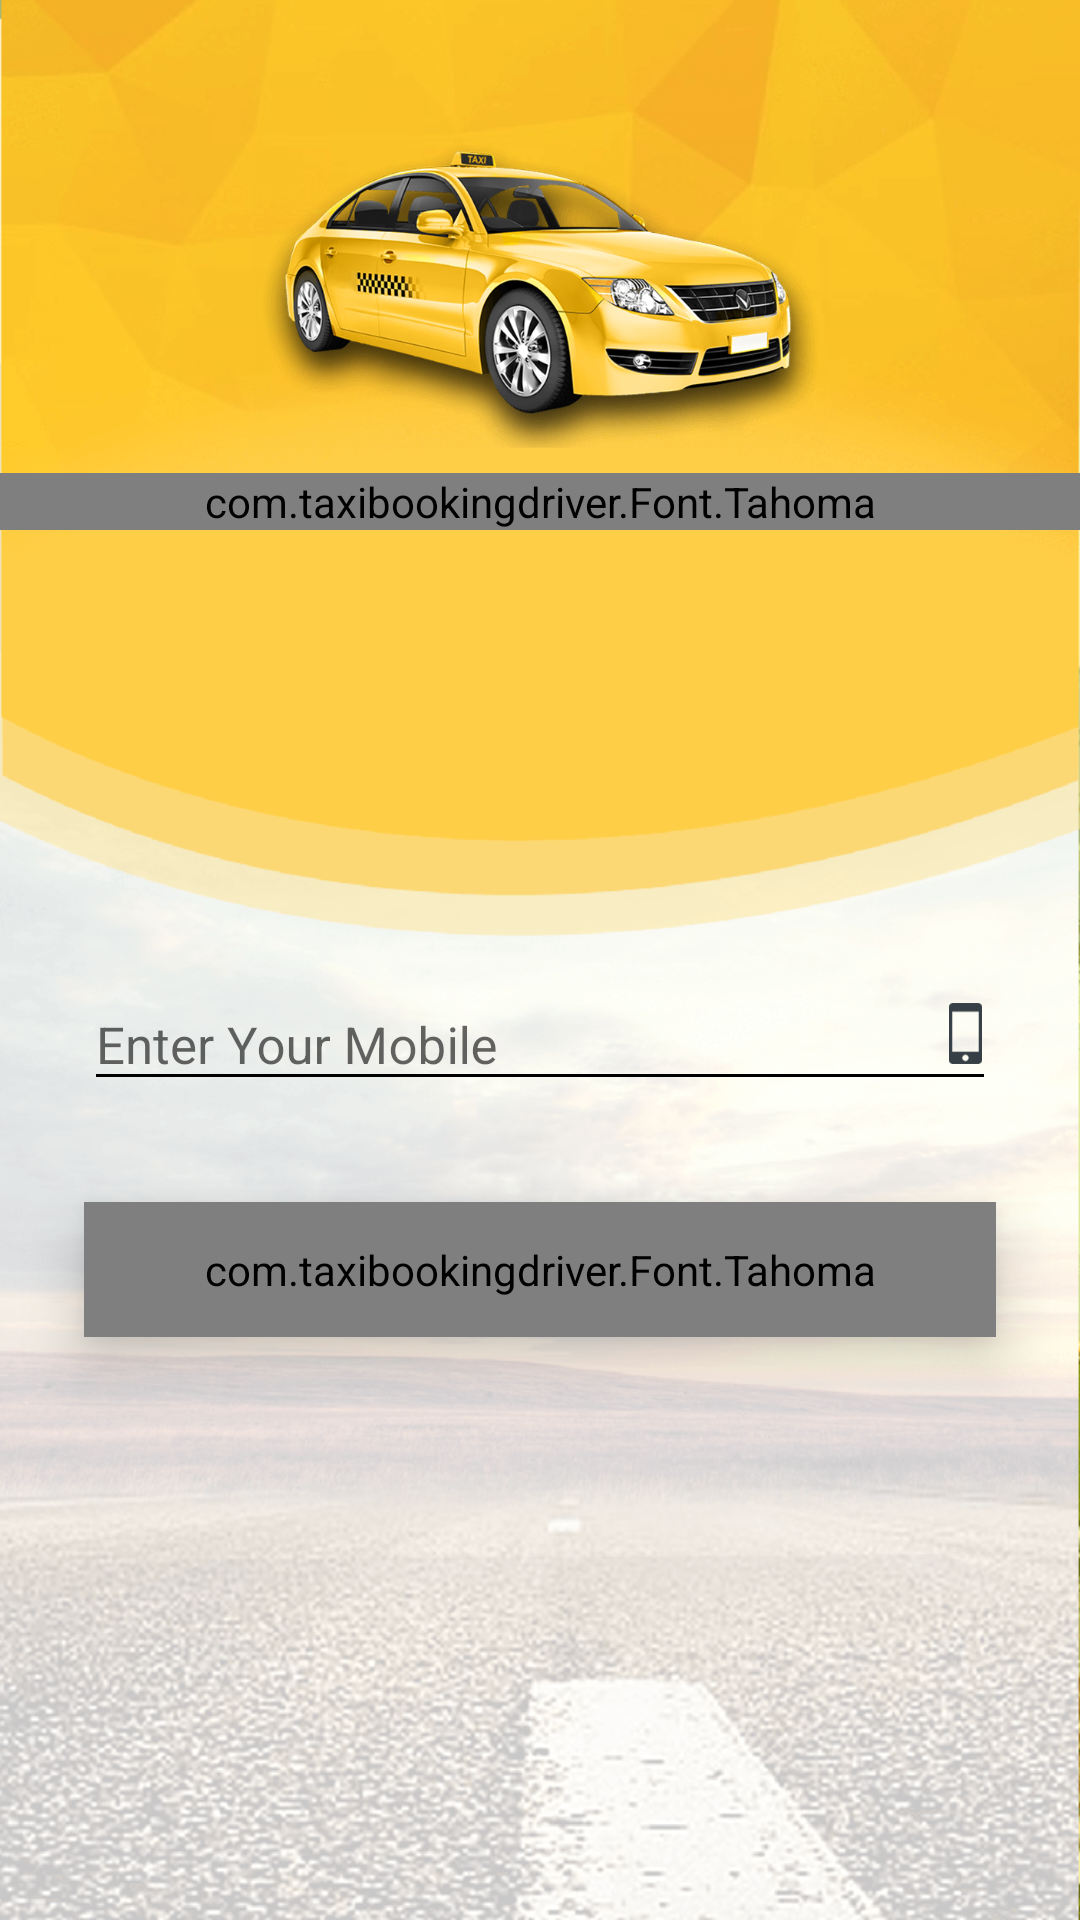

Screen size 1080px×1920px. Icon name, then its box in pixels as (x1, y1, x2, y2):
phone: (949, 1003, 982, 1064)
